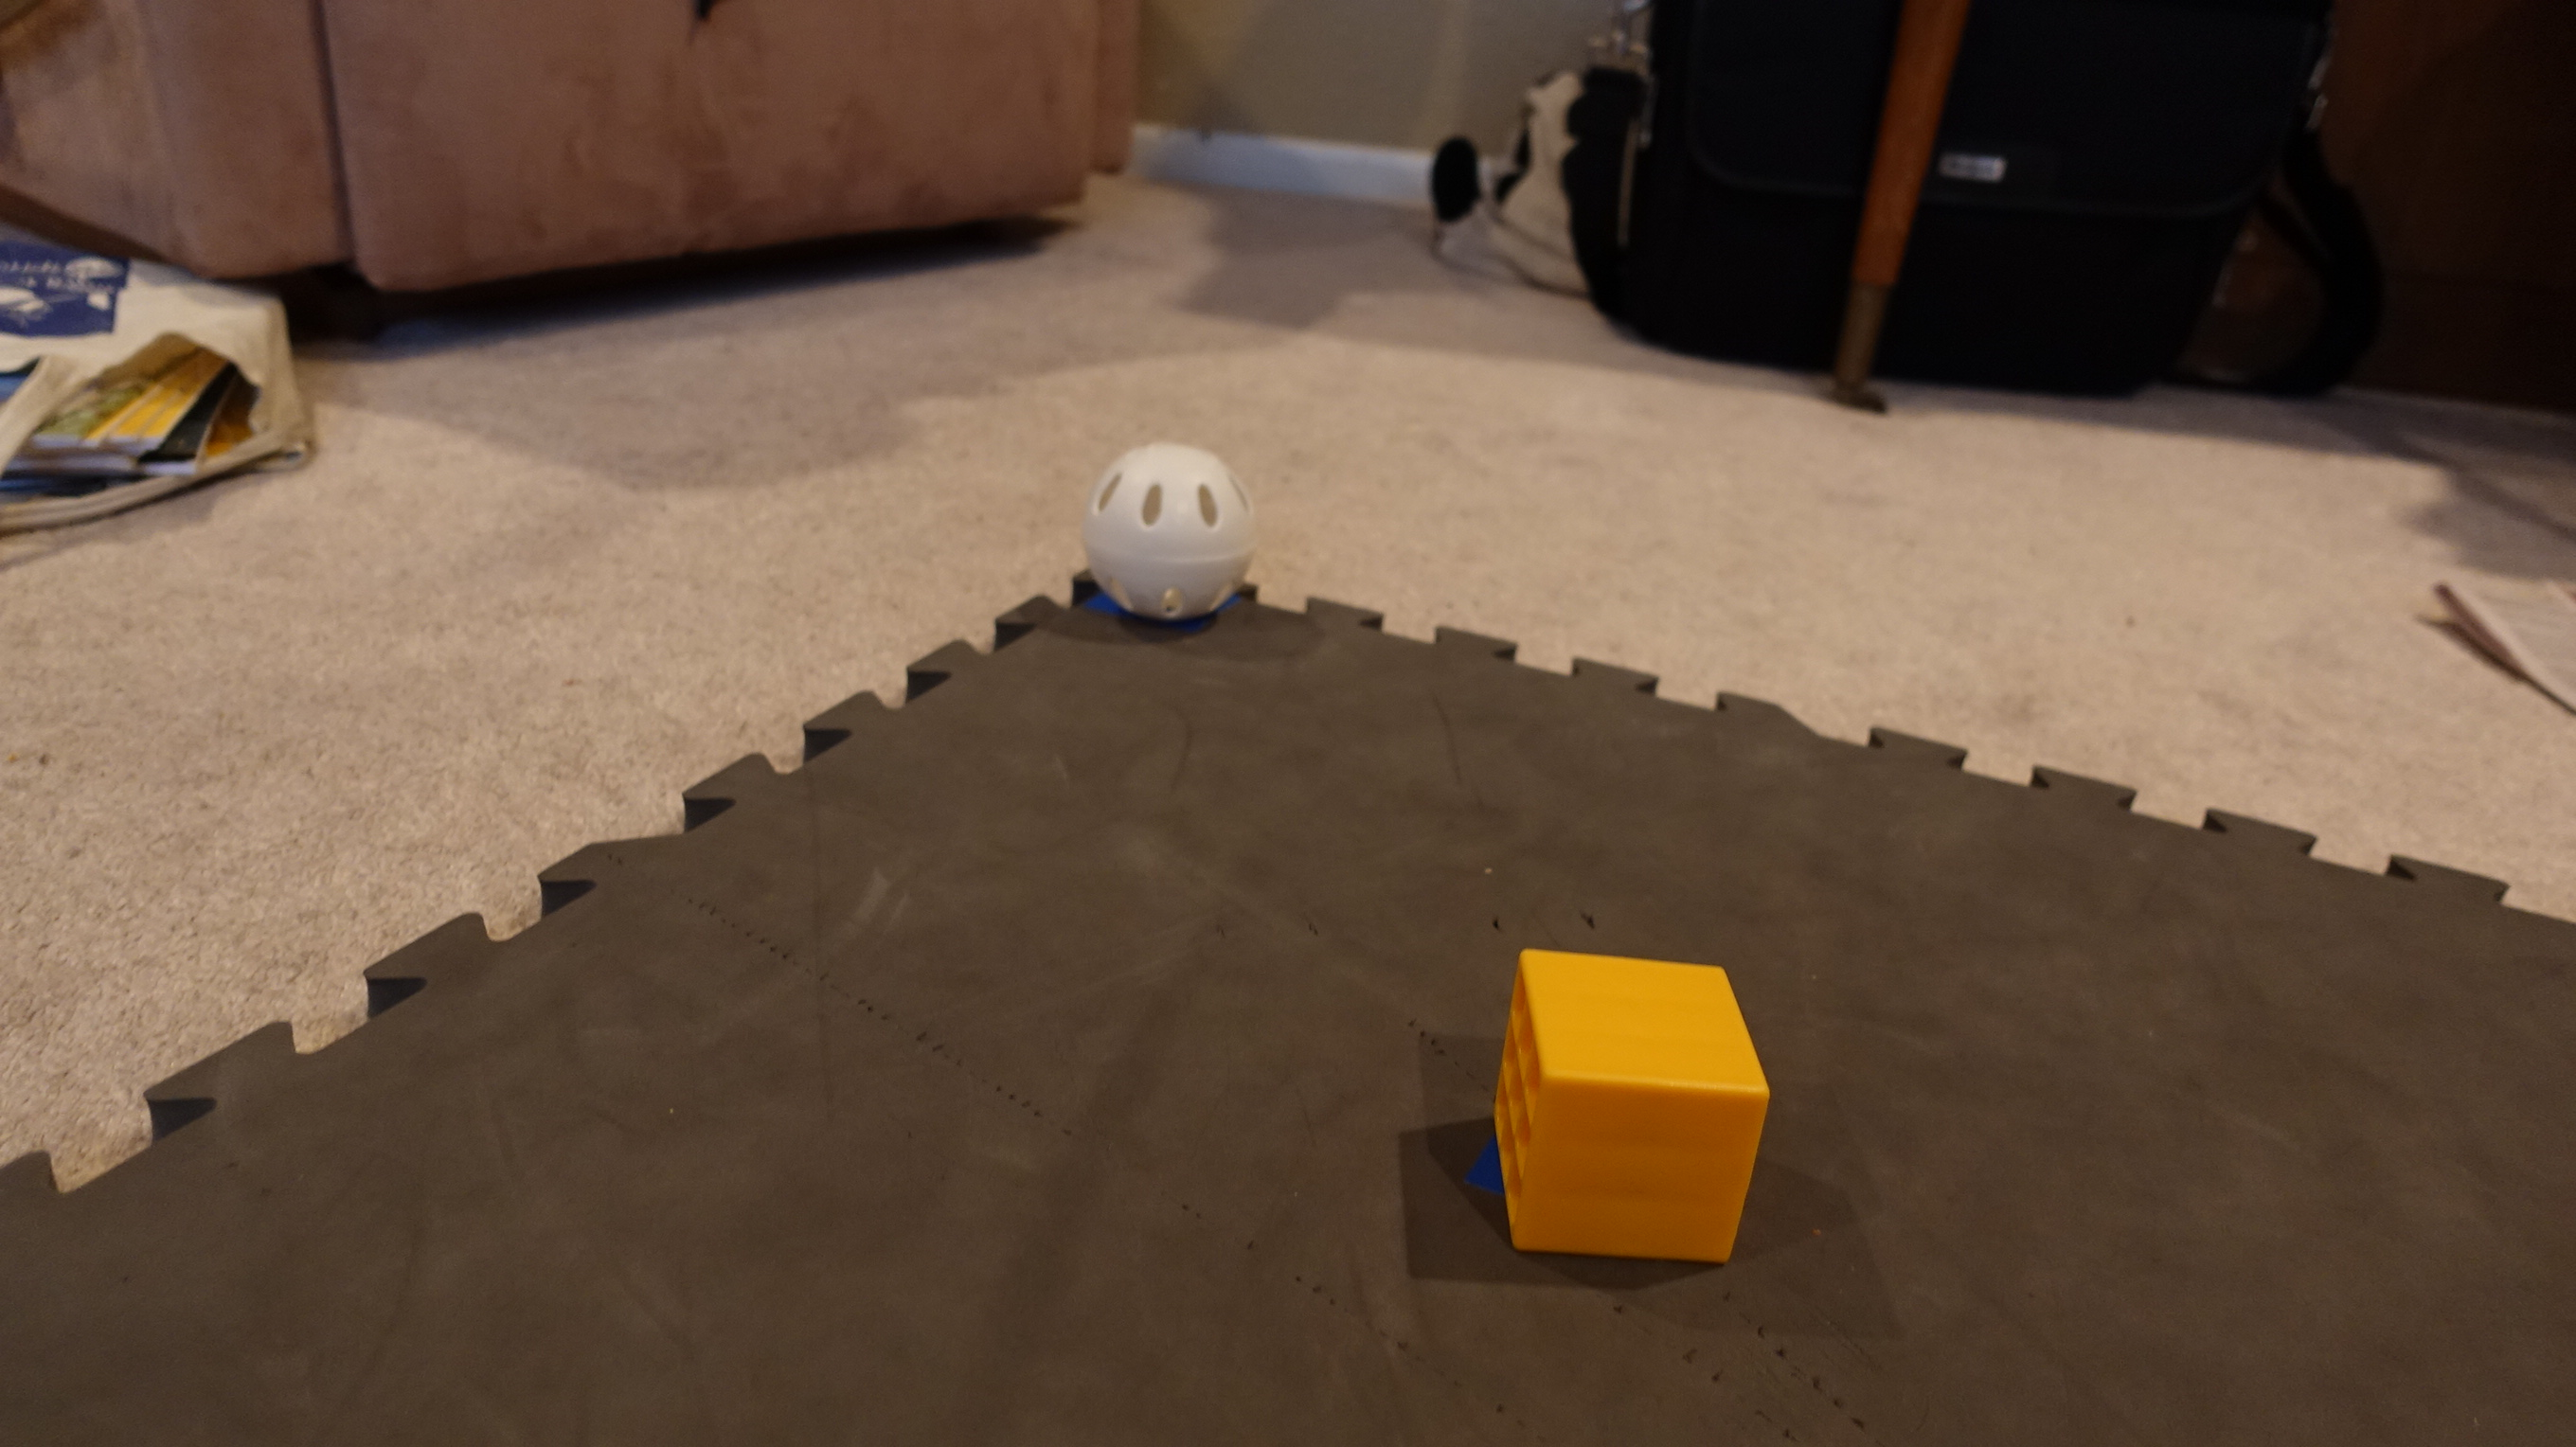gold: (1472, 915, 1789, 1279)
silver: (1079, 435, 1267, 630)
